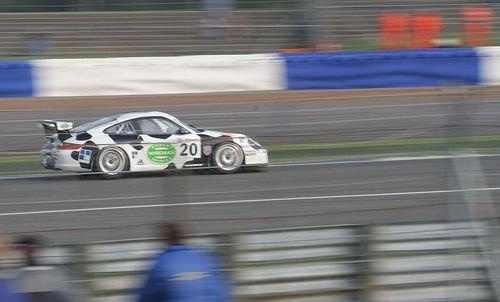car: (37, 110, 273, 178)
